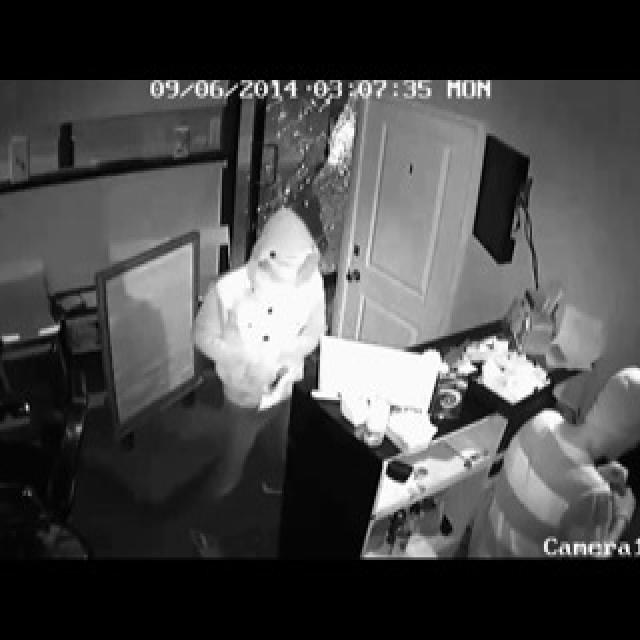thief: (200, 198, 331, 507), (480, 351, 640, 554)
